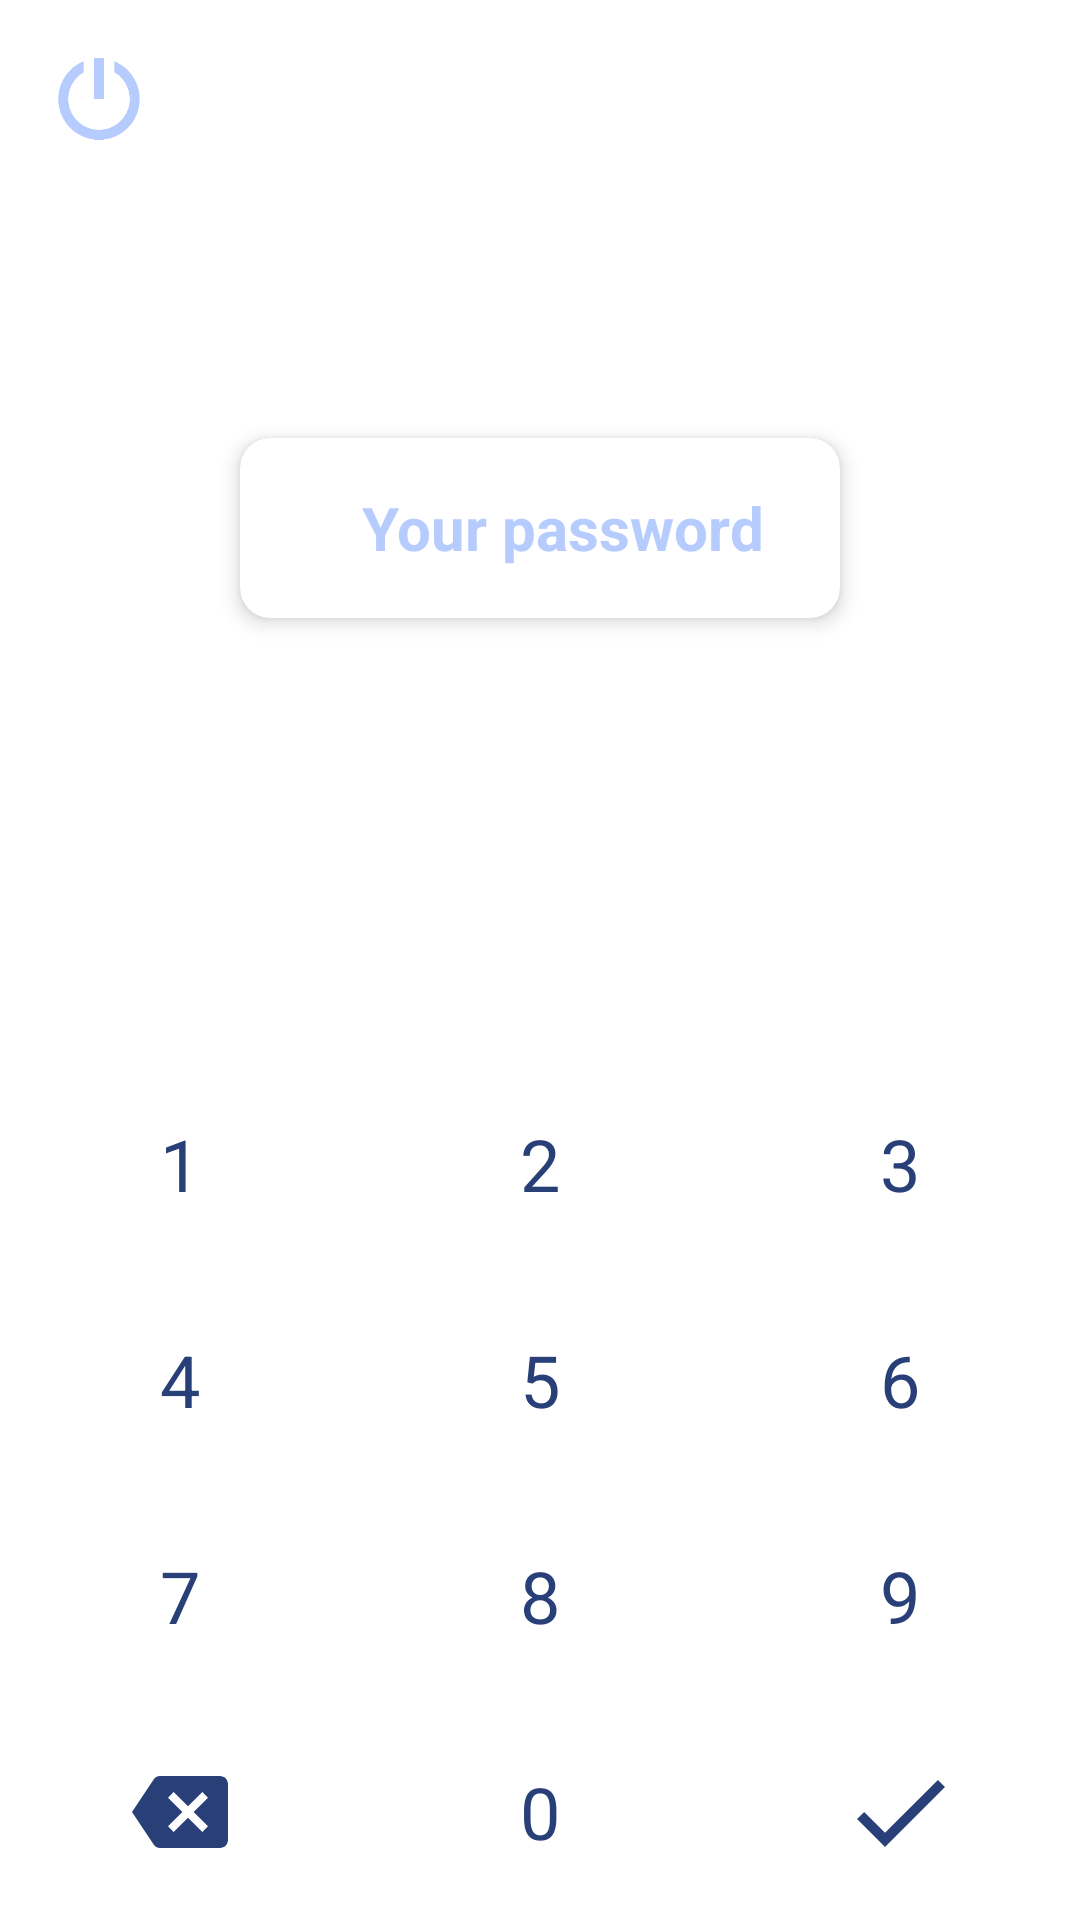

Screen size 1080w x 1920h. Icon name, then its center in pixels as (x,y):
backspace: (180,1812)
check: (901,1813)
quit: (99,99)
